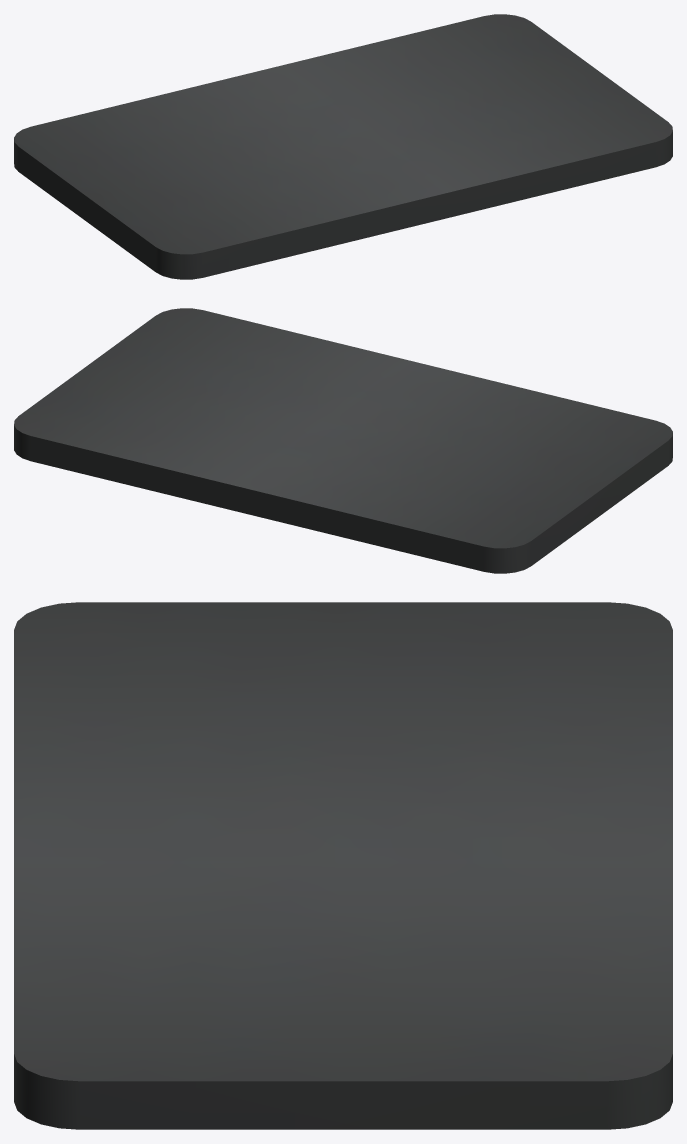
File: Platform_Rect_Simple.fbx
The picture shows the model from 3 angles, top to bottom: view 1: azimuth 30°, elevation 25°; view 2: azimuth 150°, elevation 25°; view 3: azimuth 270°, elevation 25°; orthographic projection. The views are drawn at different scales.
Parts seen in each view (by area): view 1: Platform_Rect_Simple; view 2: Platform_Rect_Simple; view 3: Platform_Rect_Simple.
Part boxes in pixels (x1,y1,x2,y2): Platform_Rect_Simple: [14, 14, 672, 279]; Platform_Rect_Simple: [14, 308, 672, 573]; Platform_Rect_Simple: [14, 602, 672, 1129].
Size of the model in its own units: 746 by 35.17 by 433.
